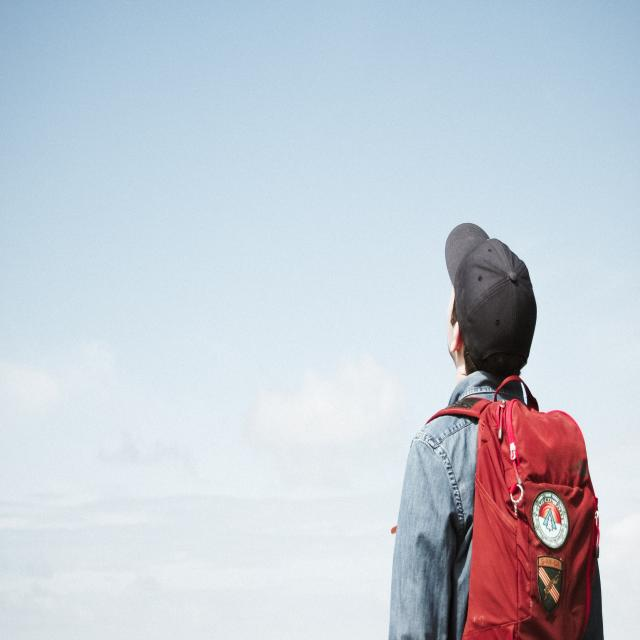backpack: (428, 390, 597, 640)
